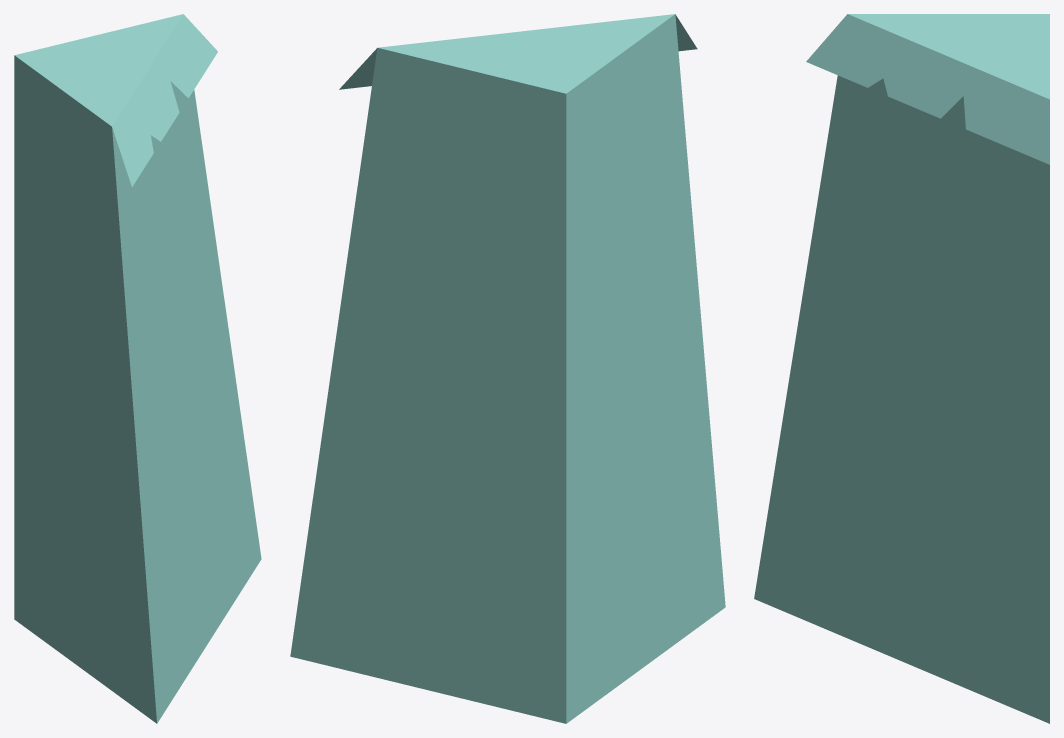
File: cliffBrown_cornerTop.fbx
3 renders of one model, left to right at view 1: azimuth 30°, elevation 25°; view 2: azimuth 150°, elevation 25°; view 3: azimuth 270°, elevation 25°, orthographic. The views are drawn at different scales.
Parts seen in each view (by area): view 1: cliffBrown_cornerTop; view 2: cliffBrown_cornerTop; view 3: cliffBrown_cornerTop.
Part boxes in pixels (x1,y1,x2,y2): cliffBrown_cornerTop: [14, 14, 261, 723]; cliffBrown_cornerTop: [290, 14, 725, 723]; cliffBrown_cornerTop: [754, 14, 1049, 723].
Size of the model in its own units: 138 by 300 by 138.
